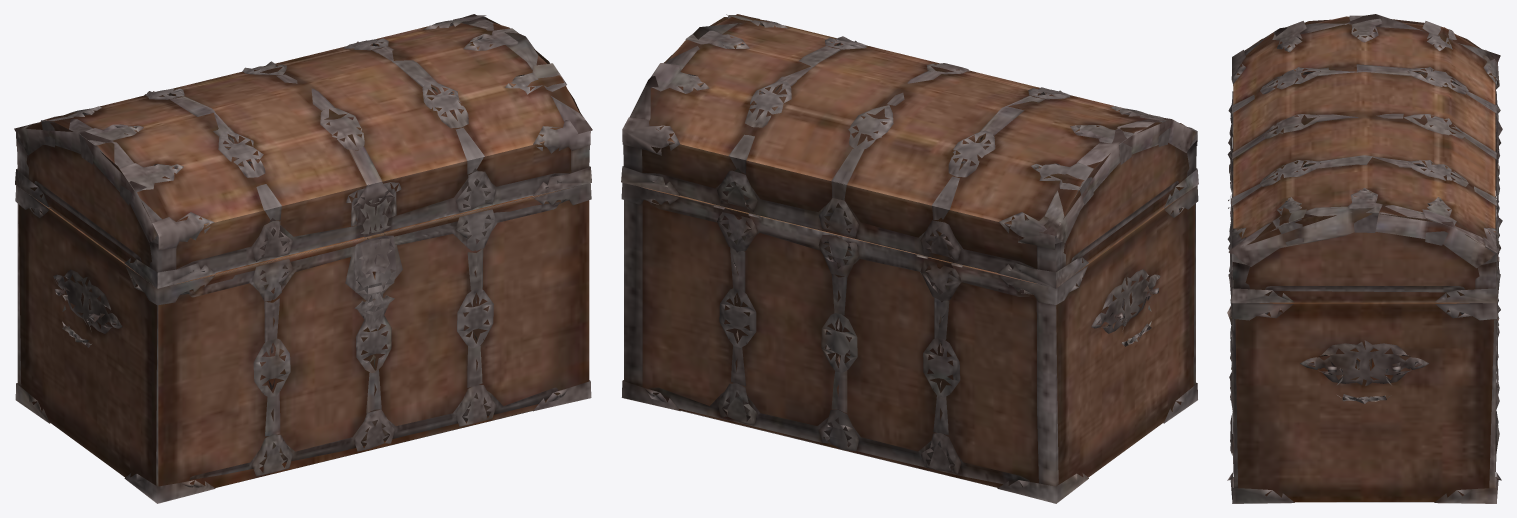
Rendered from chest_wood.glb.
3 renders of one model, left to right at view 1: azimuth 30°, elevation 25°; view 2: azimuth 150°, elevation 25°; view 3: azimuth 270°, elevation 25°, orthographic. The views are drawn at different scales.
Visible parts, largest first — view 1: treasure_chest_bottom, treasure_chest_lid, treasure_chest_lock; view 2: treasure_chest_bottom, treasure_chest_lid; view 3: treasure_chest_lid, treasure_chest_bottom, treasure_chest_handle_right.
Part boxes in pixels (bbox=[...]): treasure_chest_bottom: bbox=[15, 183, 591, 503]; treasure_chest_lid: bbox=[14, 14, 592, 288]; treasure_chest_lock: bbox=[353, 234, 396, 322]; treasure_chest_bottom: bbox=[621, 183, 1198, 503]; treasure_chest_lid: bbox=[621, 14, 1198, 288]; treasure_chest_lid: bbox=[1227, 14, 1502, 303]; treasure_chest_bottom: bbox=[1227, 132, 1501, 503]; treasure_chest_handle_right: bbox=[1337, 368, 1391, 403].
Bounding box in the file's own units: 0.9485 × 0.6241 × 0.5275.
1 material, 1 textured.
